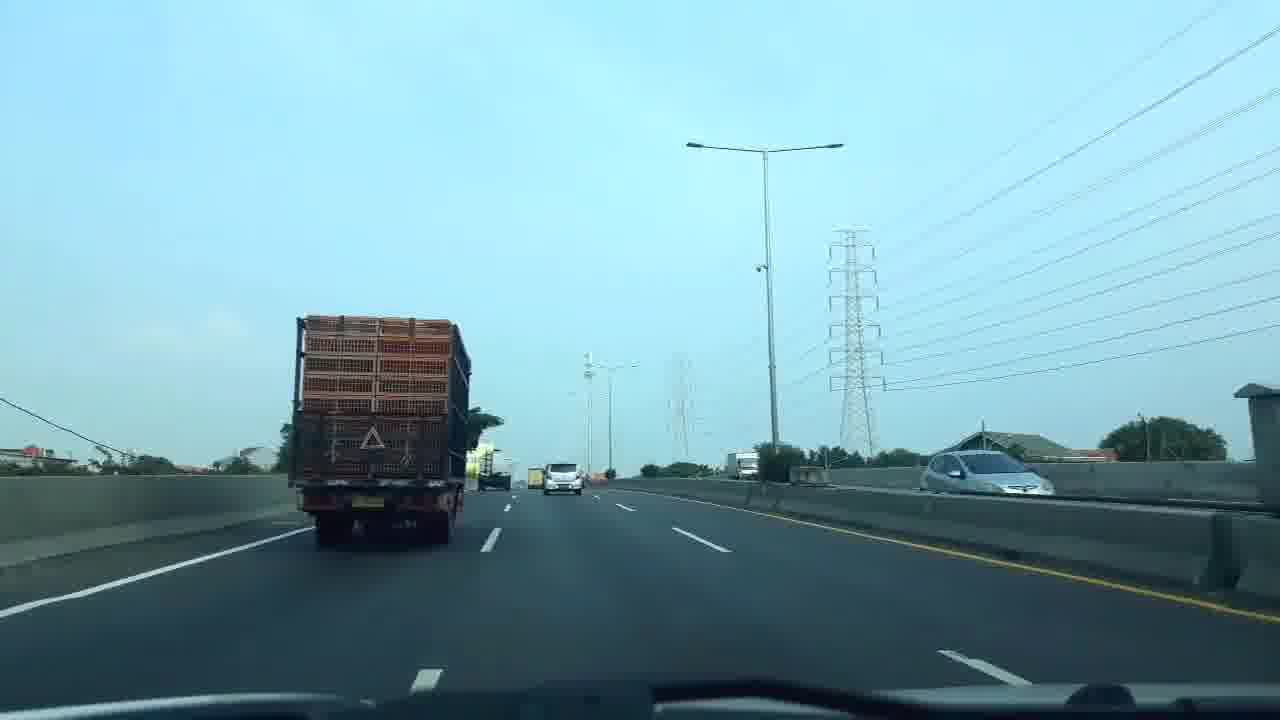plate_positive: (352, 497, 384, 509), (559, 485, 569, 489)
